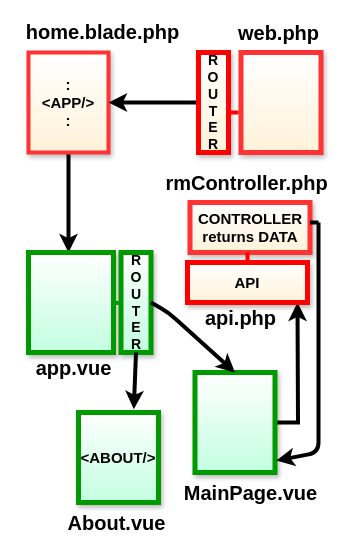
Some shapes in this 353 by 554 pixel diagram are drawn without their labels. The centre of each missing label's shape, as x and y in pixels:
": <VIEW-ROUTER/> :" belongs at (72,304).
"<MAIN-PAGE/> axios call to Laravel API" belongs at (235,424).
"ANY URL" belongs at (281,104).
